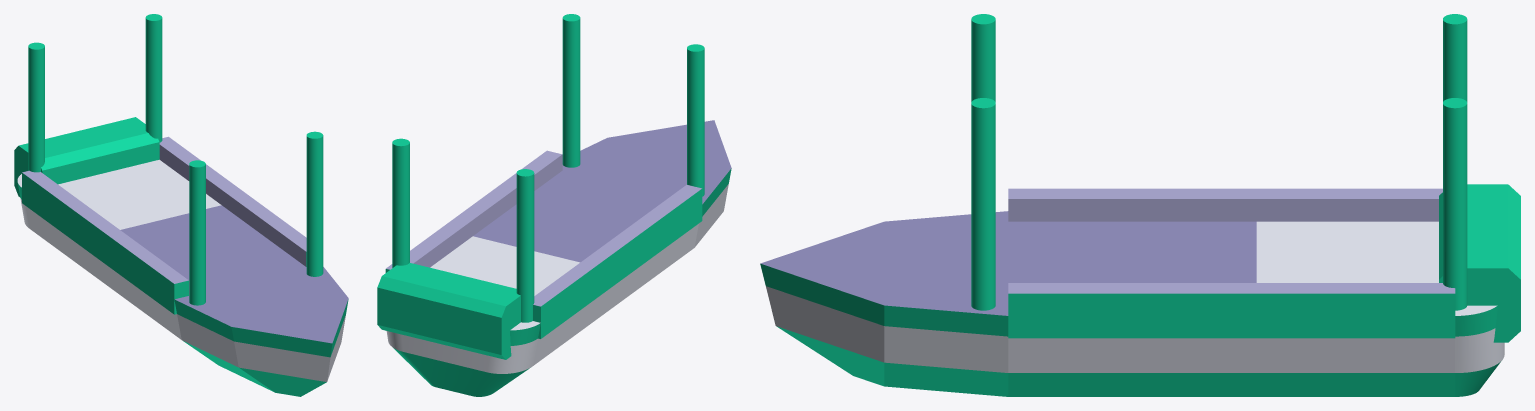
Rendered from AirshipBottom.fbx.
3 views of the same model, side by side, from view 1: azimuth 30°, elevation 25°; view 2: azimuth 150°, elevation 25°; view 3: azimuth 270°, elevation 25° (orthographic). The views are drawn at different scales.
Visible parts, largest first — view 1: mergedBlocks; view 2: mergedBlocks; view 3: mergedBlocks.
Boxes of the visible parts, x1,y1,x2,y2 form: mergedBlocks: [14, 14, 348, 396]; mergedBlocks: [377, 14, 731, 396]; mergedBlocks: [760, 14, 1520, 396].
Bounding box in the file's own units: 10 × 14 × 30.65.
